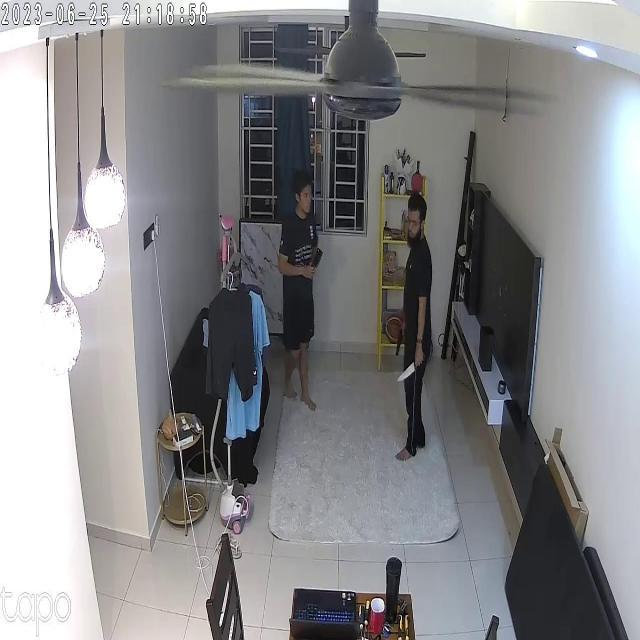Knife: (393, 345, 435, 394)
